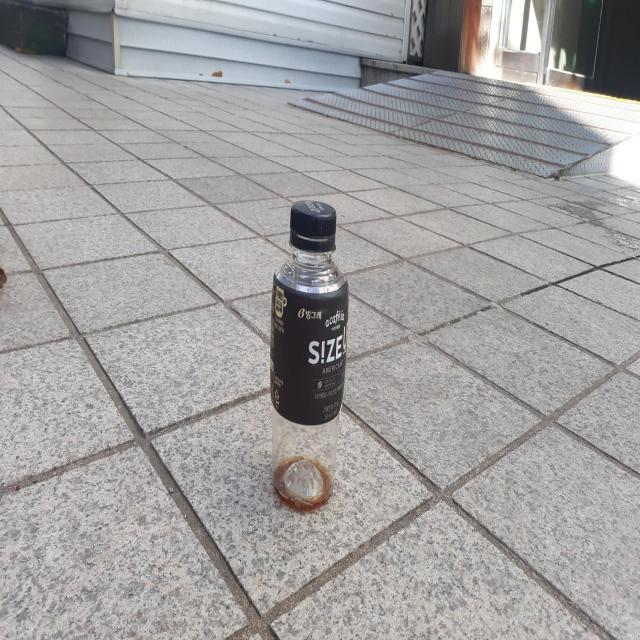plastic: (270, 199, 349, 511)
